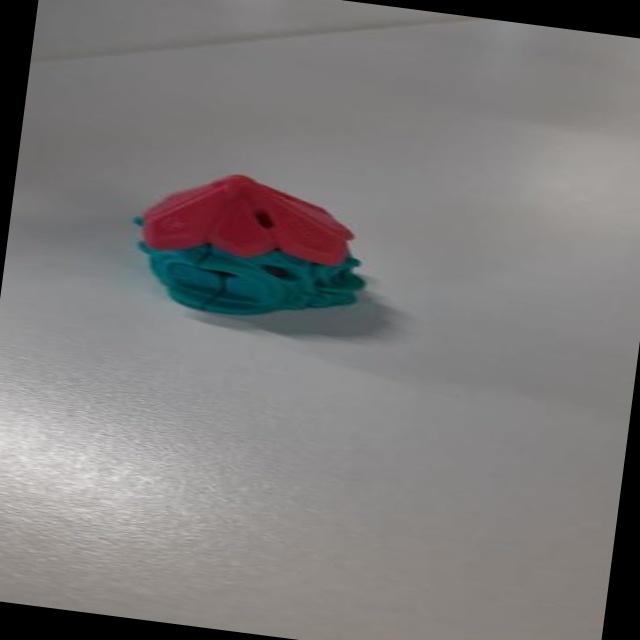House: (121, 153, 405, 337)
